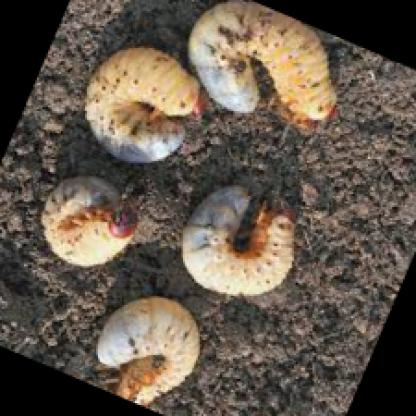root grubs: (186, 4, 338, 127), (180, 186, 299, 301), (86, 49, 205, 162), (96, 297, 200, 404), (42, 176, 137, 268)
